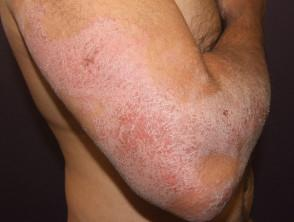Eczema: (220, 189, 233, 206), (83, 51, 98, 64), (166, 172, 179, 187), (79, 104, 94, 117), (38, 32, 51, 45), (118, 113, 131, 126), (219, 111, 235, 120), (203, 39, 215, 51), (188, 184, 199, 197), (246, 107, 253, 125), (259, 117, 267, 130), (213, 178, 224, 184), (80, 43, 89, 50)
